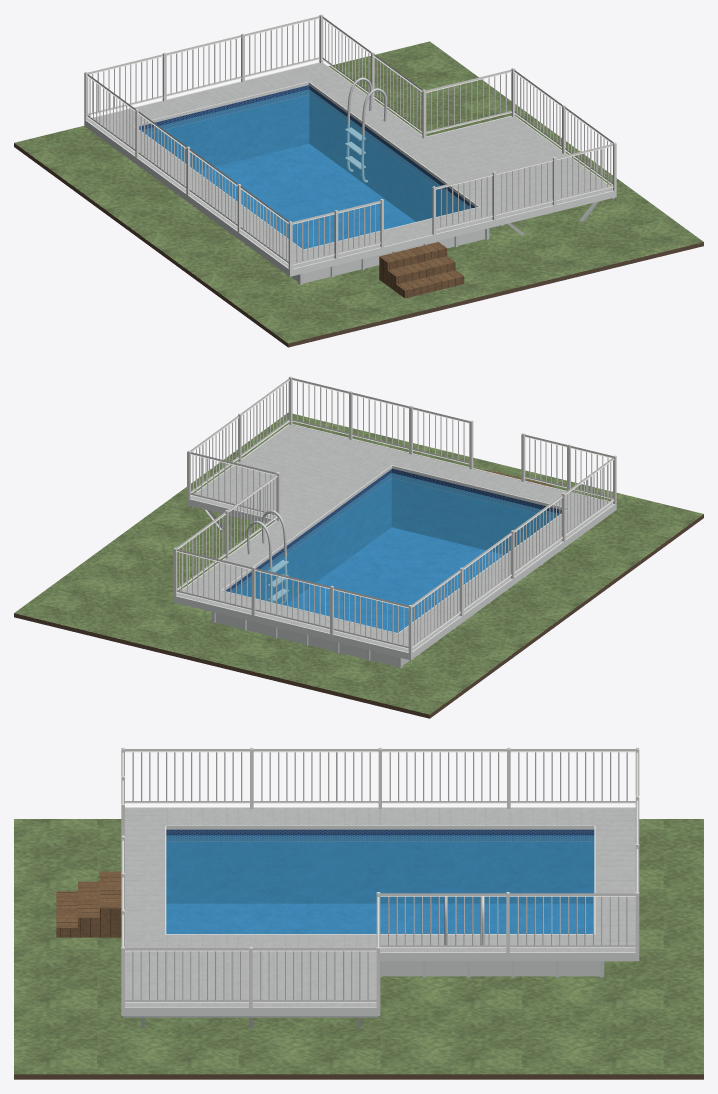
Rendered from kayak-pool-12x20-white-l-rec-fence.7855be76ae.glb.
The picture shows the model from 3 angles, top to bottom: view 1: azimuth 30°, elevation 25°; view 2: azimuth 150°, elevation 25°; view 3: azimuth 270°, elevation 25°; orthographic projection. The views are drawn at different scales.
Visible parts, largest first — view 1: ground, water, deck, fence, liner_wall, liner_floor, fascia, steps, soil, wall, steel; view 2: ground, water, deck, fence, liner_wall, liner_floor, fascia, soil, wall, steel; view 3: ground, water, deck, liner_wall, fence, liner_floor, fascia, soil, steps, wall, stud.
Part boxes in pixels (left/top/right/bottom): ground: left=14, top=41, right=703, bottom=343; water: left=142, top=89, right=471, bottom=248; deck: left=87, top=63, right=612, bottom=268; fence: left=84, top=14, right=616, bottom=269; liner_wall: left=139, top=85, right=475, bottom=221; liner_floor: left=196, top=144, right=415, bottom=248; fascia: left=84, top=62, right=616, bottom=276; steps: left=379, top=242, right=464, bottom=298; soil: left=14, top=143, right=703, bottom=347; wall: left=291, top=229, right=485, bottom=283; steel: left=345, top=77, right=386, bottom=182; ground: left=14, top=412, right=703, bottom=714; water: left=229, top=473, right=558, bottom=632; deck: left=177, top=425, right=613, bottom=652; fence: left=173, top=376, right=616, bottom=653; liner_wall: left=226, top=468, right=561, bottom=605; liner_floor: left=285, top=527, right=503, bottom=632; fascia: left=173, top=424, right=616, bottom=660; soil: left=14, top=514, right=703, bottom=718; wall: left=215, top=613, right=409, bottom=666; steel: left=247, top=510, right=288, bottom=603; ground: left=14, top=819, right=703, bottom=1074; water: left=166, top=835, right=594, bottom=933; deck: left=125, top=808, right=635, bottom=1006; liner_wall: left=166, top=829, right=594, bottom=903; fence: left=121, top=747, right=639, bottom=1007; liner_floor: left=166, top=903, right=592, bottom=933; fascia: left=121, top=807, right=639, bottom=1015; soil: left=14, top=1074, right=703, bottom=1079; steps: left=56, top=871, right=121, bottom=937; wall: left=382, top=961, right=599, bottom=976; stud: left=123, top=1016, right=378, bottom=1028.
Size of the model in its own units: 8.53 by 2.15 by 9.75.
Materials: 13 (5 with a texture image).
